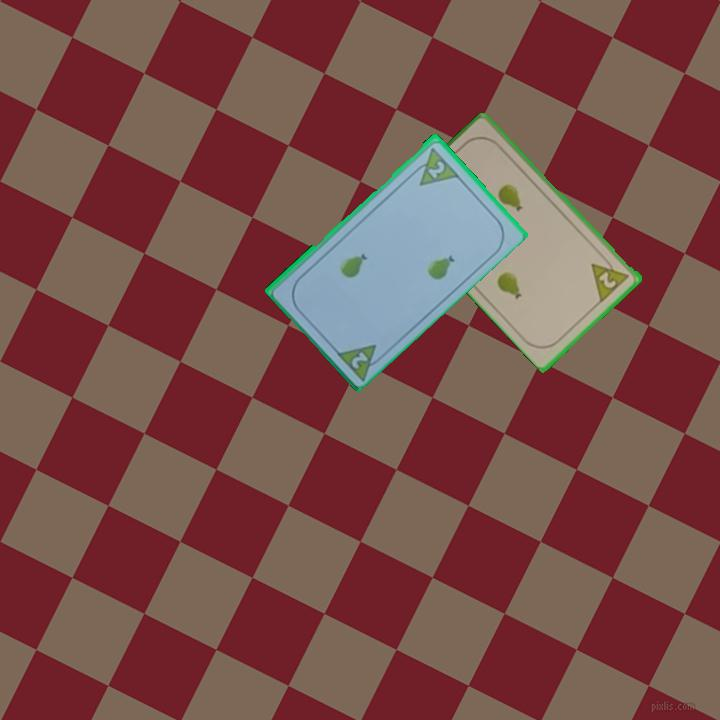2p: (588, 251, 633, 304), (424, 157, 448, 181), (347, 348, 371, 371)
